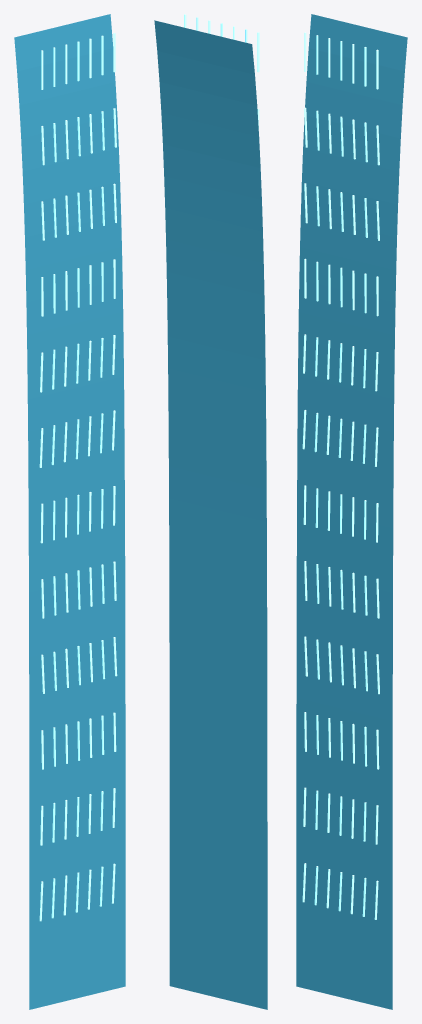
The model's file is forest-waterfall.glb.
3 renders of one model, left to right at view 1: azimuth 30°, elevation 25°; view 2: azimuth 150°, elevation 25°; view 3: azimuth 330°, elevation 25°, orthographic.
Visible parts, largest first — view 1: ForestWaterfall_water, WaterFlowRibbon_5_foam, WaterFlowRibbon_3_foam, WaterFlowRibbon_6_glow, WaterFlowRibbon_0_glow, WaterFlowRibbon_4_glow, WaterFlowRibbon_2_glow, WaterFlowRibbon_1_foam; view 2: ForestWaterfall_water; view 3: ForestWaterfall_water, WaterFlowRibbon_0_glow, WaterFlowRibbon_1_foam, WaterFlowRibbon_5_foam, WaterFlowRibbon_6_glow, WaterFlowRibbon_4_glow, WaterFlowRibbon_2_glow, WaterFlowRibbon_3_foam.
Boxes of the visible parts, x1,y1,x2,y2 form: ForestWaterfall_water: (14,14,125,1009); WaterFlowRibbon_5_foam: (99,35,105,906); WaterFlowRibbon_3_foam: (75,41,80,912); WaterFlowRibbon_6_glow: (112,32,117,903); WaterFlowRibbon_0_glow: (39,50,44,921); WaterFlowRibbon_4_glow: (87,38,92,909); WaterFlowRibbon_2_glow: (63,44,68,915); WaterFlowRibbon_1_foam: (51,47,56,918); ForestWaterfall_water: (154,20,267,1009); ForestWaterfall_water: (296,14,407,1009); WaterFlowRibbon_0_glow: (302,32,307,902); WaterFlowRibbon_1_foam: (314,35,319,905); WaterFlowRibbon_5_foam: (362,47,367,916); WaterFlowRibbon_6_glow: (374,49,379,919); WaterFlowRibbon_4_glow: (350,44,355,914); WaterFlowRibbon_2_glow: (326,38,331,908); WaterFlowRibbon_3_foam: (338,41,343,911).
Bounding box in the file's own units: 0.88 × 8.4 × 0.279.
